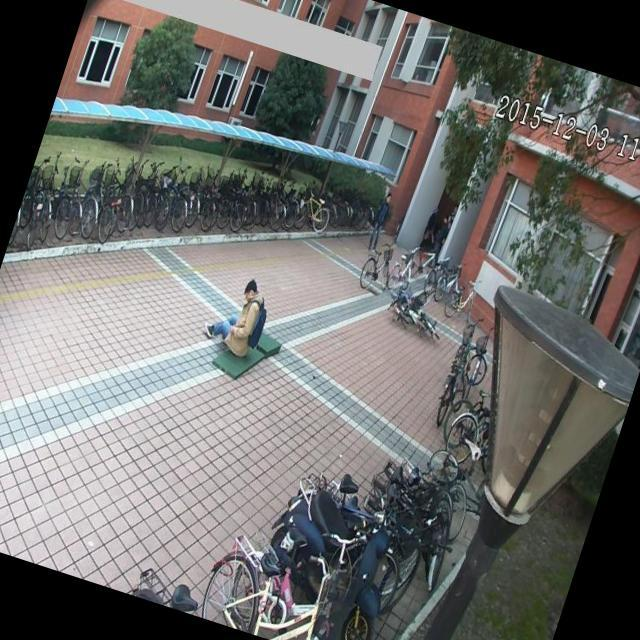person: (200, 264, 279, 366), (360, 184, 399, 256)
